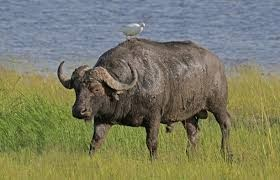bird: (120, 19, 147, 40)
buffalo: (55, 37, 236, 169)
